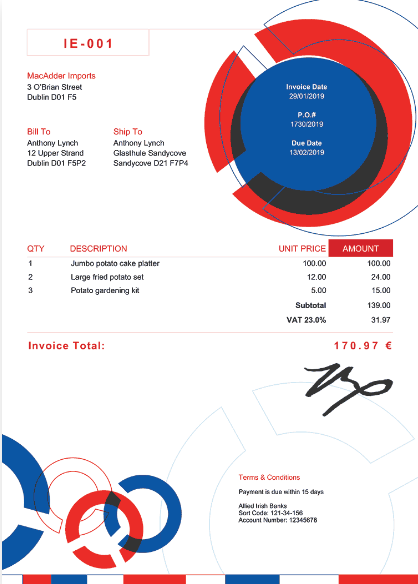Table: (8, 227, 396, 355)
